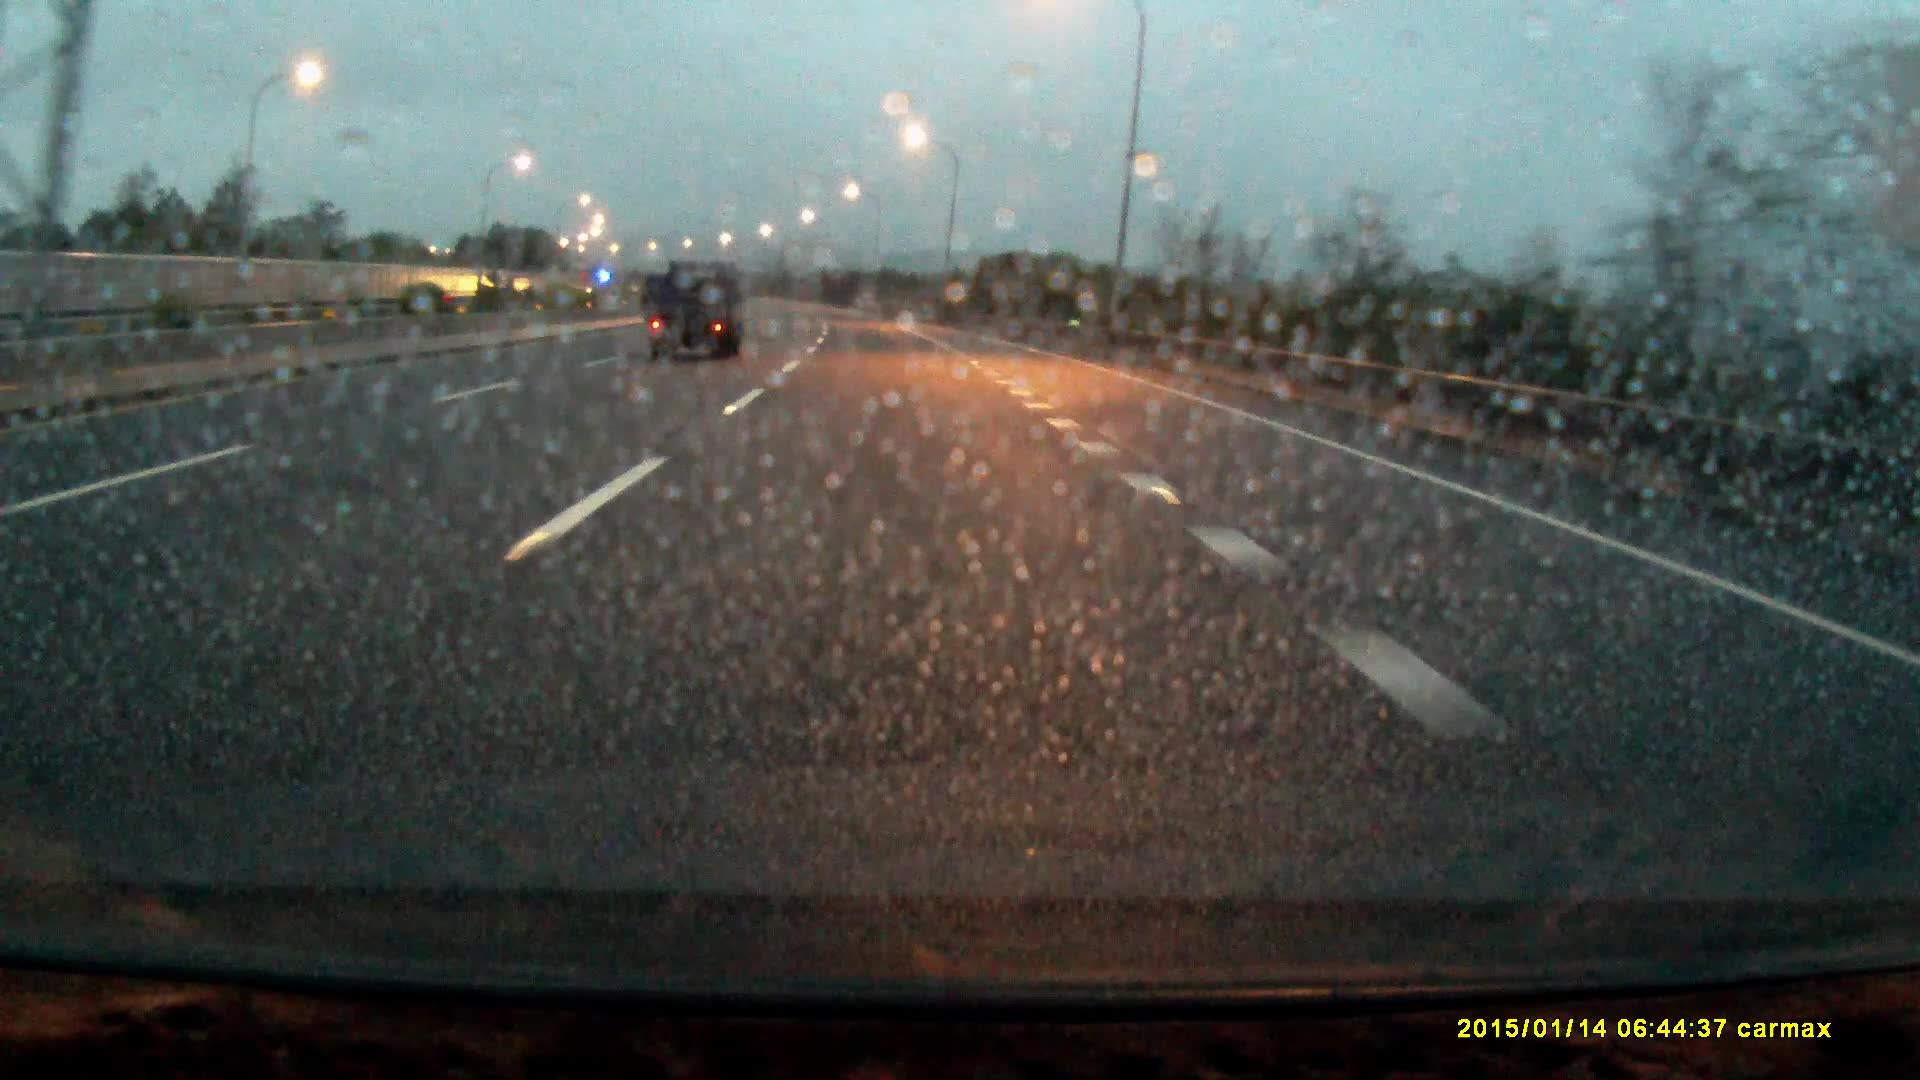vehicle: (646, 255, 746, 367)
